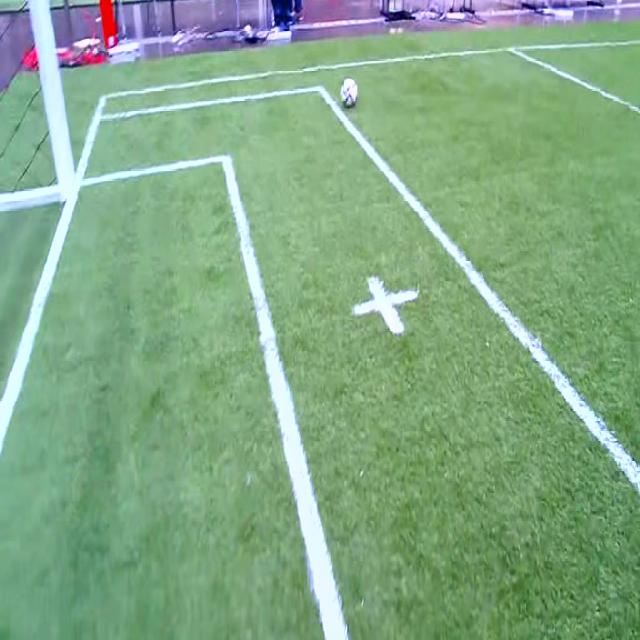ball: (340, 78, 358, 107)
